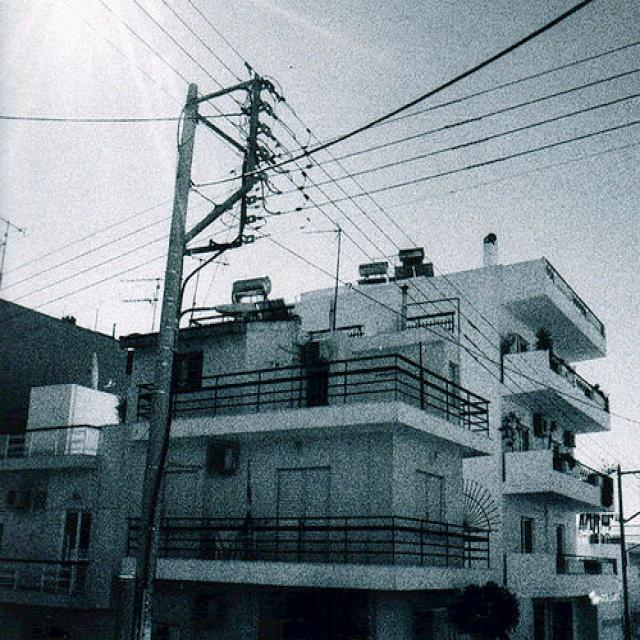crossarm: (178, 184, 256, 241), (197, 112, 253, 160), (194, 76, 258, 104), (182, 241, 242, 253)
pole: (131, 84, 200, 640)
wire: (195, 0, 599, 187), (131, 2, 396, 265), (162, 2, 399, 253), (186, 0, 419, 250), (243, 88, 640, 205), (239, 124, 640, 227), (276, 67, 639, 176), (371, 38, 640, 130), (0, 110, 245, 124)
